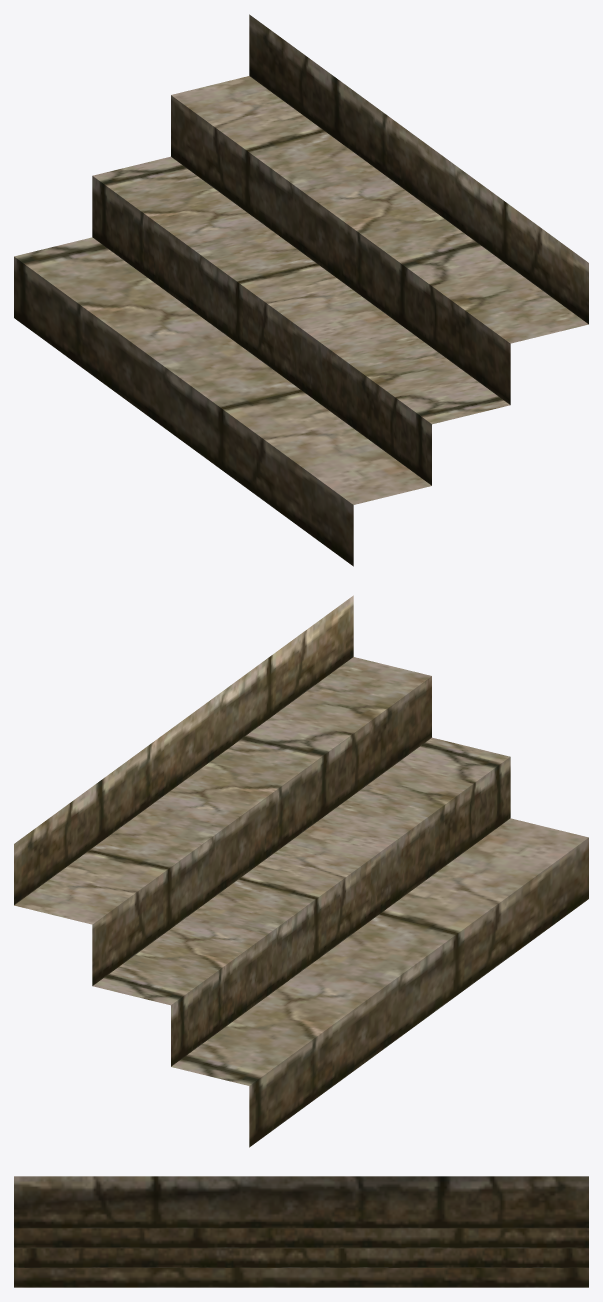
File: OVERHILL_A_01_OH_STAIR_73635.fbx
3 views of the same model, one above another, from view 1: azimuth 30°, elevation 25°; view 2: azimuth 150°, elevation 25°; view 3: azimuth 270°, elevation 25° (orthographic). The views are drawn at different scales.
Visible parts, largest first — view 1: OVERHILL_A_01_OH_STAIR_73635; view 2: OVERHILL_A_01_OH_STAIR_73635; view 3: OVERHILL_A_01_OH_STAIR_73635.
Boxes of the visible parts, bbox=[...] form: OVERHILL_A_01_OH_STAIR_73635: bbox=[14, 14, 588, 566]; OVERHILL_A_01_OH_STAIR_73635: bbox=[14, 595, 588, 1147]; OVERHILL_A_01_OH_STAIR_73635: bbox=[14, 1176, 588, 1287].
Bounding box in the file's own units: 12000 × 12000 × 30000.
Materials: 1 (1 with a texture image).
